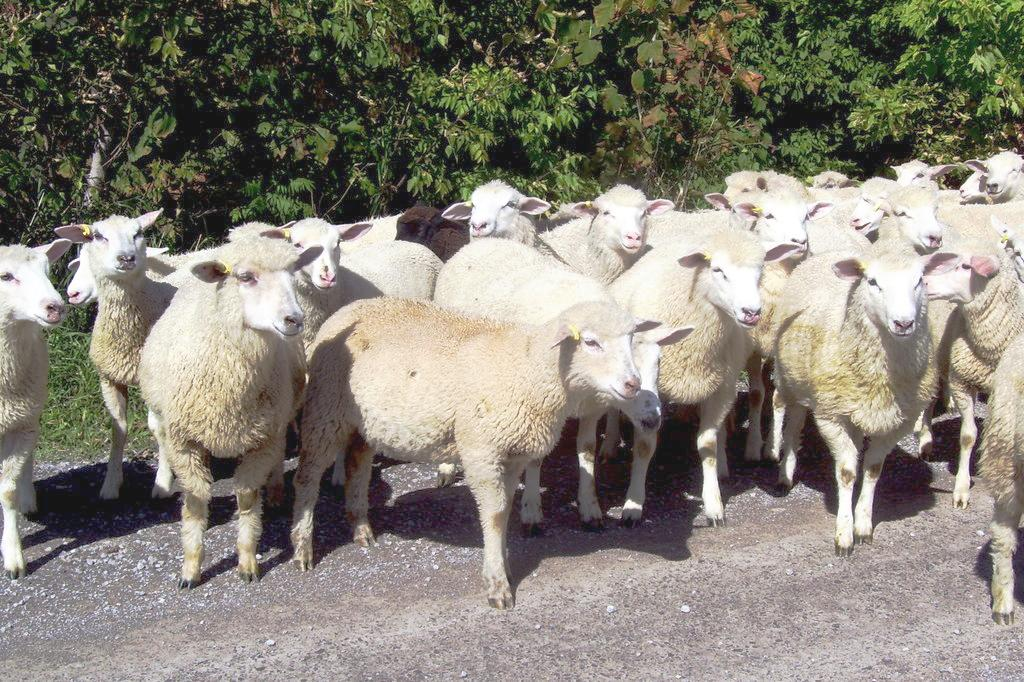Sheep: (290, 299, 664, 610), (126, 238, 336, 591), (781, 229, 960, 573), (650, 224, 767, 552), (0, 235, 74, 592), (68, 179, 162, 337), (677, 185, 831, 265), (571, 159, 672, 268), (263, 208, 371, 305), (438, 174, 566, 253), (865, 177, 954, 261), (961, 136, 1024, 209)
